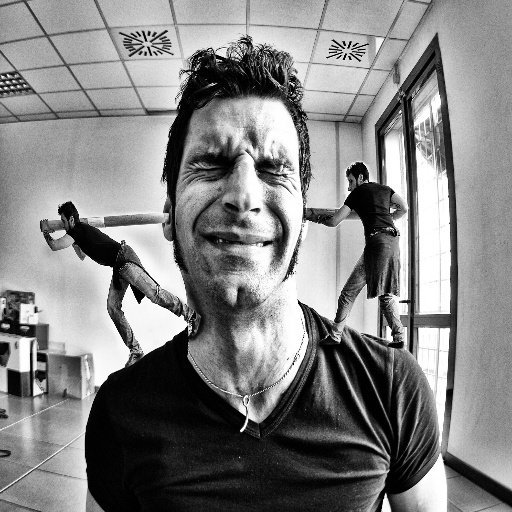hand: (38, 214, 57, 234), (305, 207, 318, 223)
